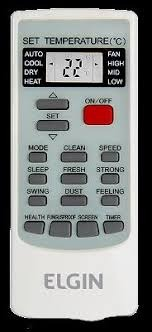remote control: (13, 16, 136, 313)
